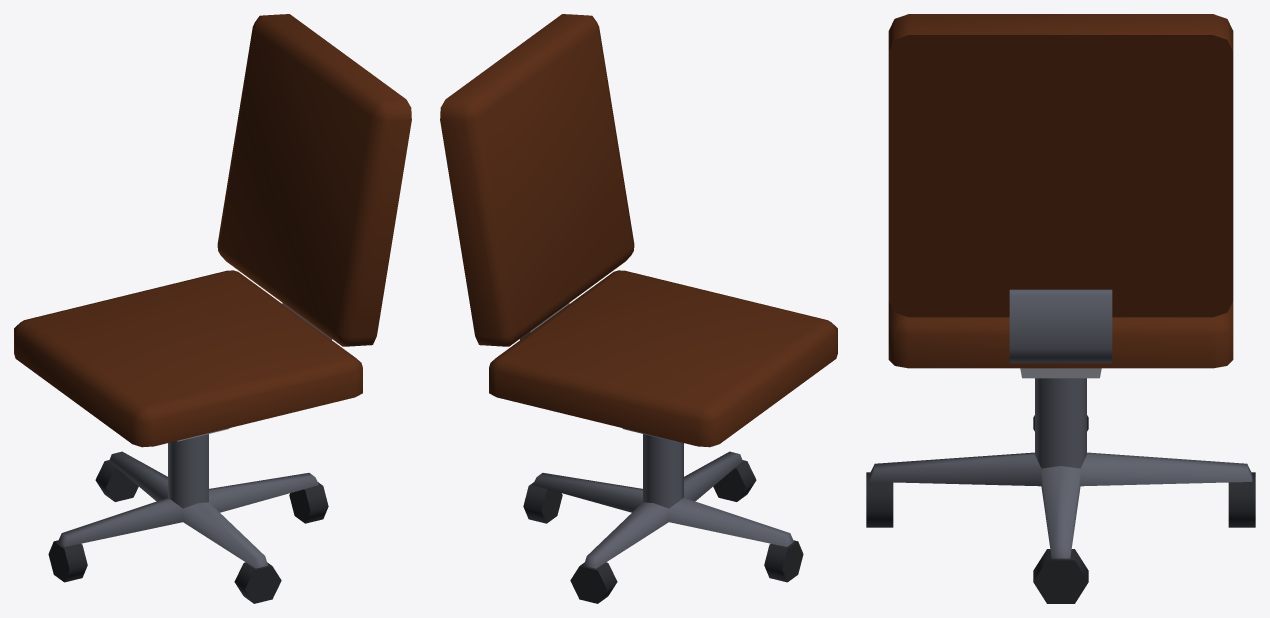
The model's file is NF_Floor_Chair.fbx.
The picture shows the model from 3 angles, left to right: view 1: azimuth 30°, elevation 25°; view 2: azimuth 150°, elevation 25°; view 3: azimuth 270°, elevation 25°; orthographic projection. The views are drawn at different scales.
Visible parts, largest first — view 1: NF_Floor_Chair; view 2: NF_Floor_Chair; view 3: NF_Floor_Chair.
Boxes of the visible parts, x1=… form: NF_Floor_Chair: x1=14, y1=14, x2=411, y2=603; NF_Floor_Chair: x1=440, y1=14, x2=837, y2=603; NF_Floor_Chair: x1=866, y1=14, x2=1255, y2=603.
Size of the model in its own units: 0.5182 by 0.7808 by 0.4642.
